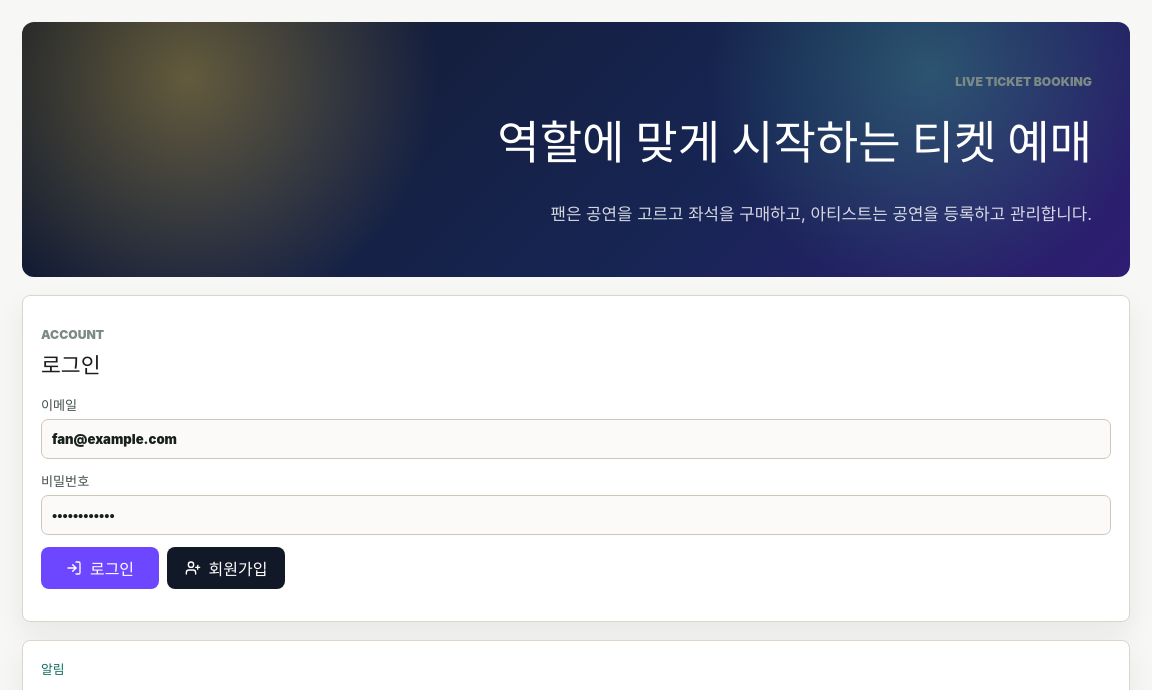
Scenario: Ticket frontend › shows purchased concerts with concert and seat labels
Click the button "로그인" at (100, 568), box [41,548,159,590]
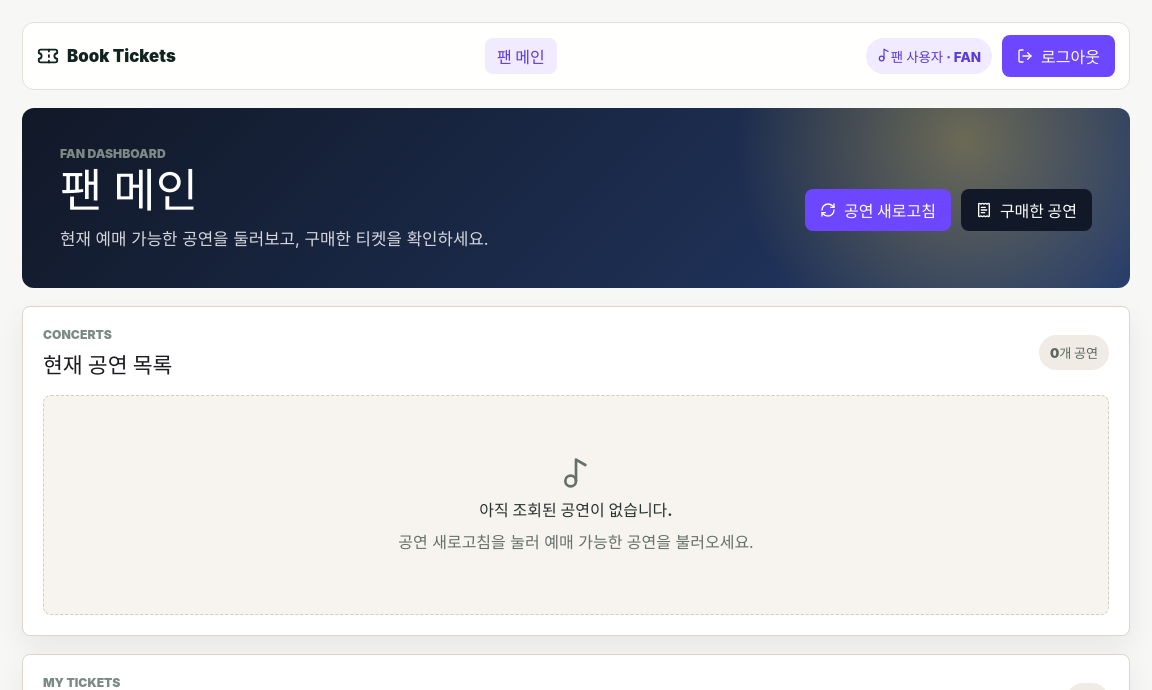
Now the heading "팬 메인" is shown, box [60,162,198,218]
Click the button "구매한 공연" at (1026, 210), box [961,189,1092,231]
(page scrolled)
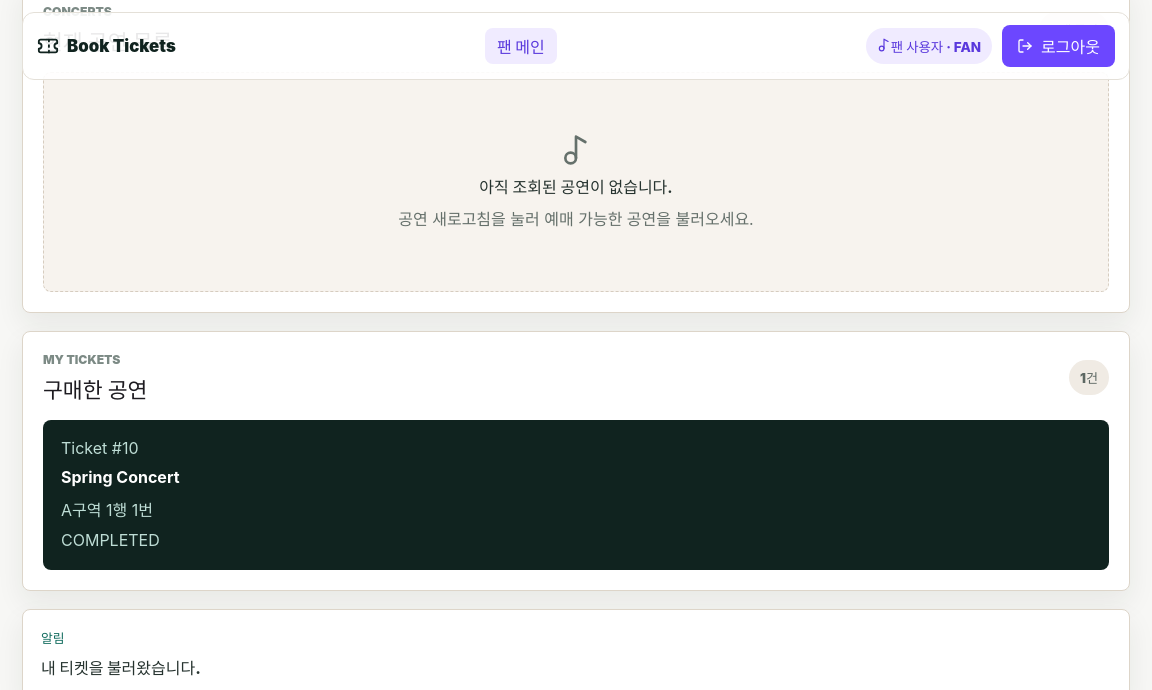
Now the text "Spring Concert" is shown, box [61,468,180,488]
Now the text "A구역 1행 1번" is shown, box [61,500,153,520]
